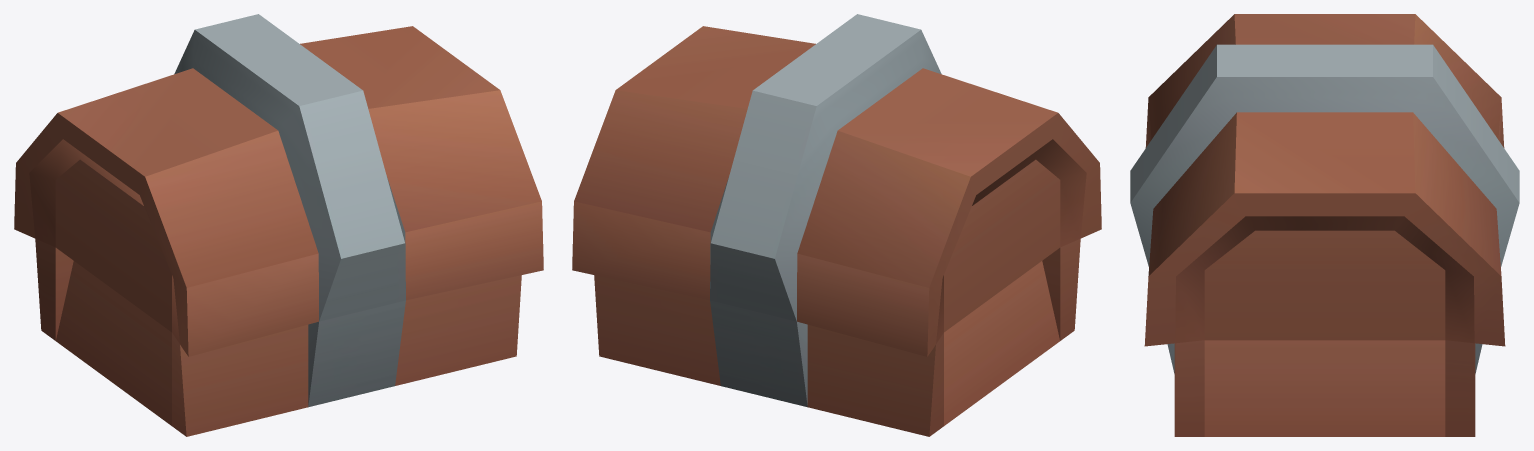
Rendered from trunk_medium_c.glb.
The picture shows the model from 3 angles, left to right: view 1: azimuth 30°, elevation 25°; view 2: azimuth 150°, elevation 25°; view 3: azimuth 270°, elevation 25°; orthographic projection. The views are drawn at different scales.
Parts seen in each view (by area): view 1: trunk_medium_C; view 2: trunk_medium_C; view 3: trunk_medium_C.
Part boxes in pixels (x1=…): trunk_medium_C: x1=14, y1=14, x2=543, y2=436; trunk_medium_C: x1=572, y1=14, x2=1101, y2=436; trunk_medium_C: x1=1130, y1=14, x2=1519, y2=436.
Bounding box in the file's own units: 0.953 × 0.7265 × 0.8751.
Materials: 1 (1 with a texture image).
